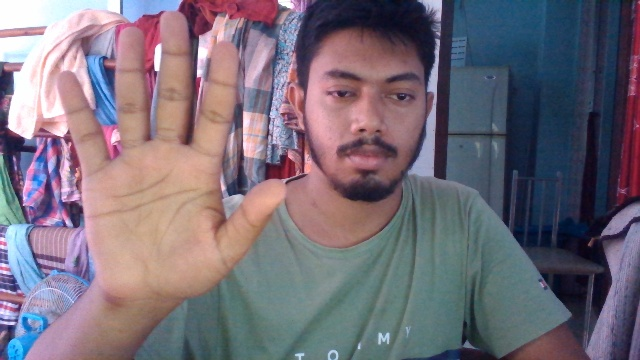hello: (58, 5, 288, 310)
